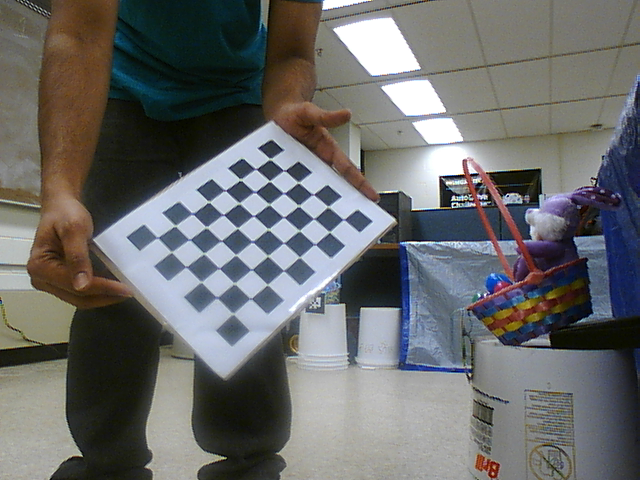bunny: (457, 151, 602, 345)
